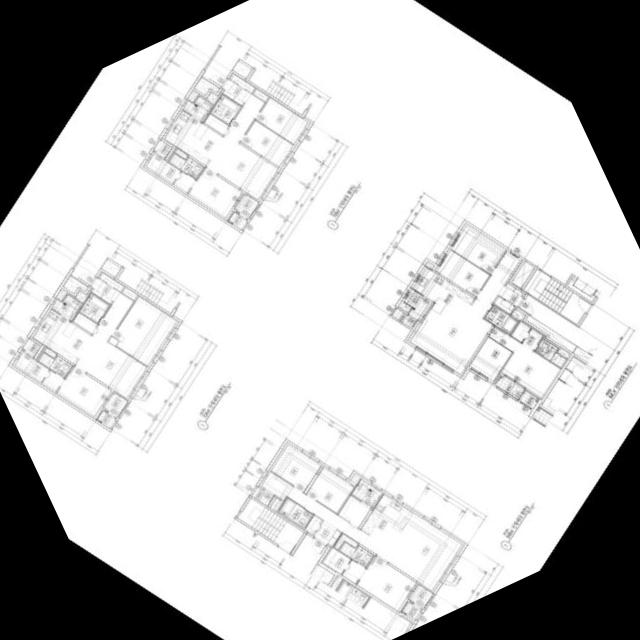background: (0, 0, 640, 640)
space_balconi: (404, 288, 433, 320), (351, 479, 382, 507), (51, 294, 82, 320), (183, 95, 213, 121), (495, 375, 524, 398), (235, 194, 258, 219), (409, 584, 432, 609), (104, 393, 127, 418)
space_bedroom: (489, 326, 561, 397), (112, 296, 176, 365), (357, 555, 416, 611), (188, 167, 242, 218), (56, 366, 111, 416), (451, 224, 505, 273), (436, 249, 489, 296), (241, 120, 293, 166), (271, 444, 321, 491), (256, 97, 307, 143), (306, 467, 354, 513)
space_dressroom: (14, 352, 64, 391), (146, 153, 195, 192), (323, 547, 365, 583), (511, 320, 543, 349)
space_front: (90, 272, 123, 304), (222, 78, 251, 105), (314, 520, 342, 546), (498, 282, 523, 306)
space_kitchen: (412, 267, 474, 319), (33, 309, 92, 363), (164, 110, 223, 164), (360, 493, 413, 549)
space_living_room: (261, 471, 461, 590), (410, 250, 520, 373), (206, 93, 278, 199), (75, 292, 147, 397)
space_multipurpose_space: (469, 336, 512, 380)
space_other: (526, 314, 577, 352), (338, 494, 371, 527), (512, 260, 534, 287), (204, 113, 229, 134), (73, 312, 97, 333), (392, 308, 416, 328), (194, 76, 219, 95), (63, 275, 88, 293), (231, 74, 255, 92), (252, 486, 274, 505), (493, 296, 515, 314), (334, 533, 358, 549), (232, 60, 252, 78), (101, 259, 120, 277), (154, 139, 172, 158), (305, 514, 322, 534), (23, 338, 40, 357), (122, 287, 137, 300), (253, 88, 268, 101), (270, 497, 281, 510), (511, 309, 524, 320), (207, 92, 218, 104), (175, 148, 188, 158), (557, 348, 570, 358), (76, 291, 87, 302), (44, 347, 56, 357), (400, 301, 411, 311), (350, 475, 360, 485), (57, 290, 67, 300), (189, 91, 198, 102), (426, 262, 434, 269)
space_outdoor_room: (401, 601, 421, 620), (519, 390, 539, 408), (96, 410, 115, 428), (228, 211, 247, 229)
space_staircase: (237, 497, 304, 552), (524, 268, 590, 323)
space_toilet: (484, 304, 518, 334), (278, 497, 312, 527), (210, 94, 241, 124), (535, 338, 567, 367), (169, 153, 204, 179), (339, 541, 374, 567), (79, 293, 109, 323), (38, 351, 72, 377)
